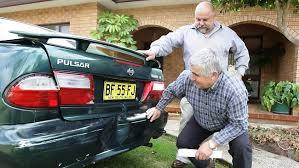Bumper: (12, 117, 149, 167)
Dickey: (64, 106, 140, 119)
